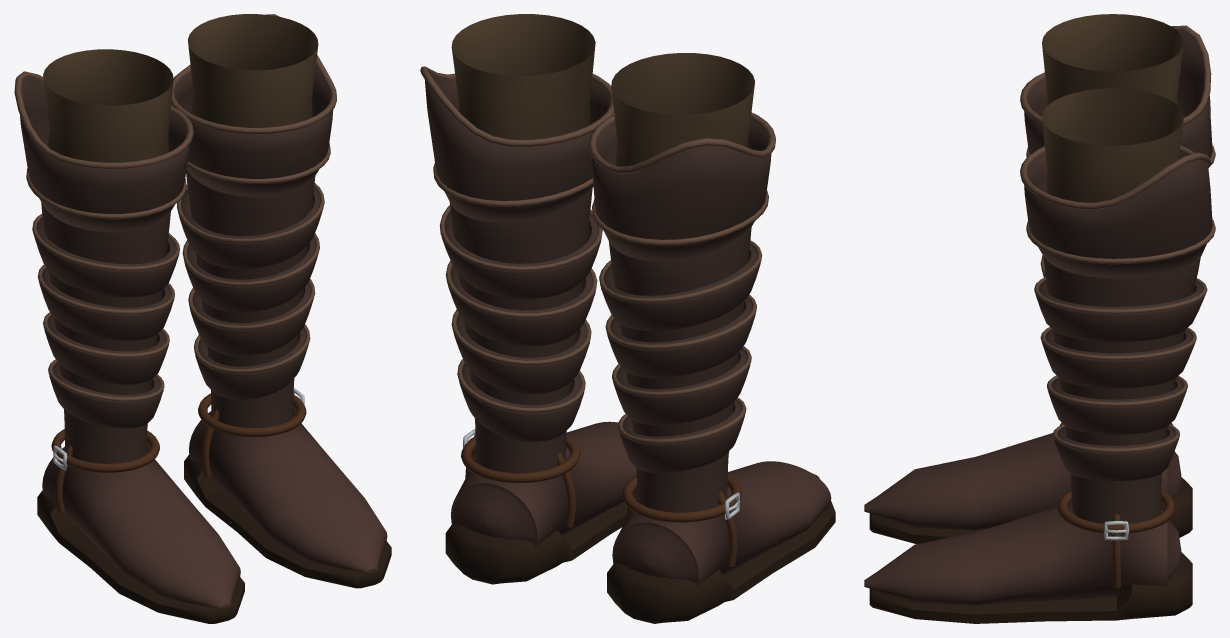
Rendered from f_ranger.glb.
The picture shows the model from 3 angles, left to right: view 1: azimuth 30°, elevation 25°; view 2: azimuth 150°, elevation 25°; view 3: azimuth 270°, elevation 25°; orthographic projection. The views are drawn at different scales.
Parts seen in each view (by area): view 1: LegR_Boot, LegL_Boot, LegL_BootFoot, LegR_BootFoot; view 2: LegR_Boot, LegL_Boot, LegR_BootFoot, LegL_BootFoot; view 3: LegL_Boot, LegL_BootFoot, LegR_Boot, LegR_BootFoot.
Boxes of the visible parts, left/top/right/bottom form: LegR_Boot: left=14, top=49, right=193, bottom=472; LegL_Boot: left=171, top=14, right=336, bottom=436; LegL_BootFoot: left=184, top=406, right=391, bottom=588; LegR_BootFoot: left=37, top=442, right=244, bottom=623; LegR_Boot: left=589, top=53, right=775, bottom=522; LegL_Boot: left=420, top=14, right=613, bottom=482; LegR_BootFoot: left=607, top=461, right=835, bottom=623; LegL_BootFoot: left=445, top=421, right=636, bottom=584; LegL_Boot: left=1020, top=88, right=1215, bottom=540; LegL_BootFoot: left=864, top=502, right=1192, bottom=623; LegR_Boot: left=1020, top=14, right=1215, bottom=425; LegR_BootFoot: left=864, top=433, right=1192, bottom=543.
Size of the model in its own units: 0.3861 by 0.5829 by 0.3826.
